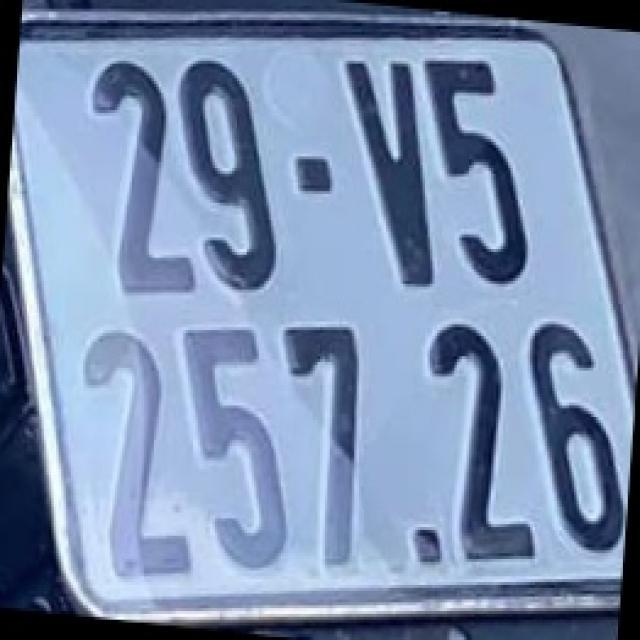1: (283, 316, 374, 568)
2: (75, 324, 194, 576), (422, 316, 540, 564), (83, 49, 198, 301)
5: (180, 318, 294, 570), (424, 46, 538, 287)
6: (528, 316, 626, 554)
7: (286, 316, 372, 568)
9: (178, 49, 284, 293)
V: (344, 49, 434, 287)
